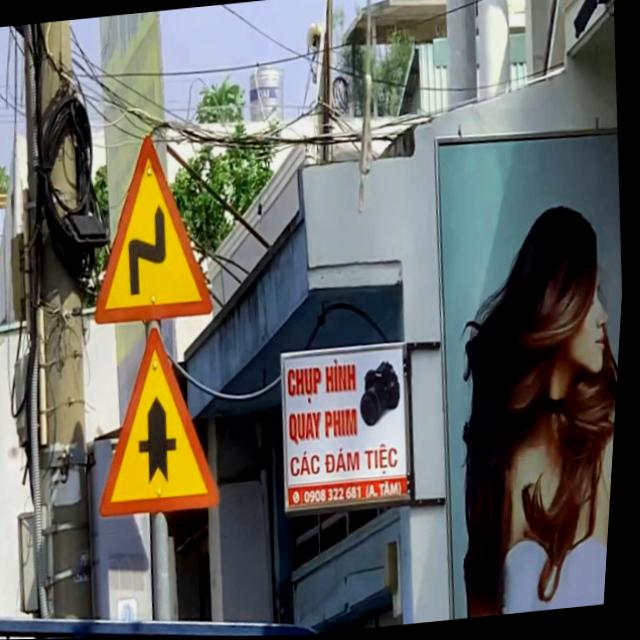Giao nhau voi duong khong uu tien: (84, 313, 243, 531)
Nhieu cho ngoat lien tiep ben phai: (75, 112, 234, 335)
